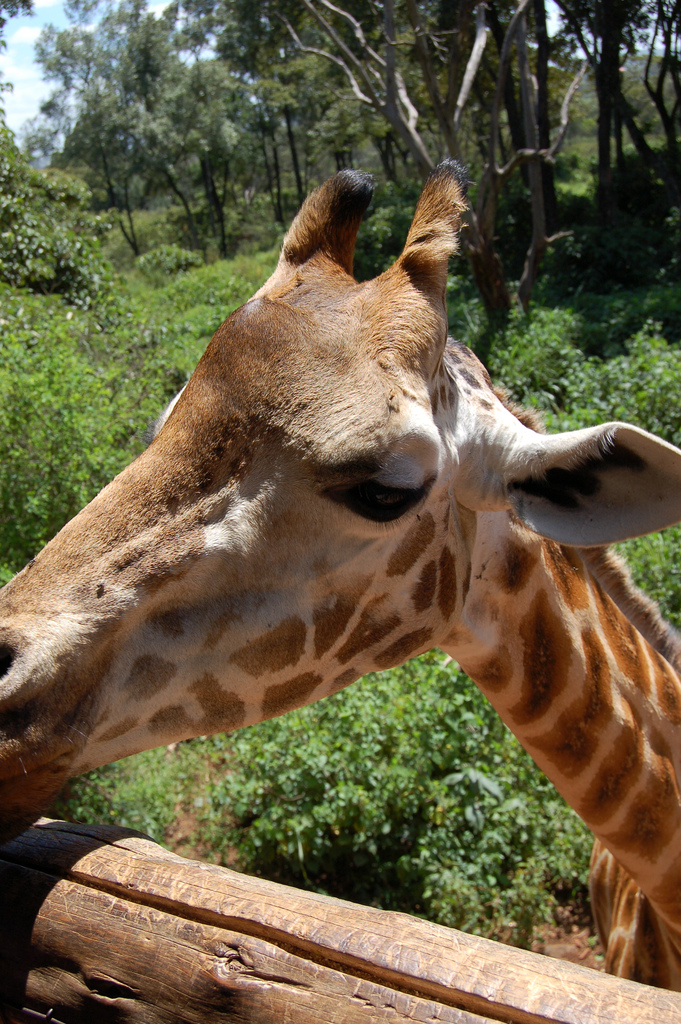giraffe: (59, 163, 654, 902)
